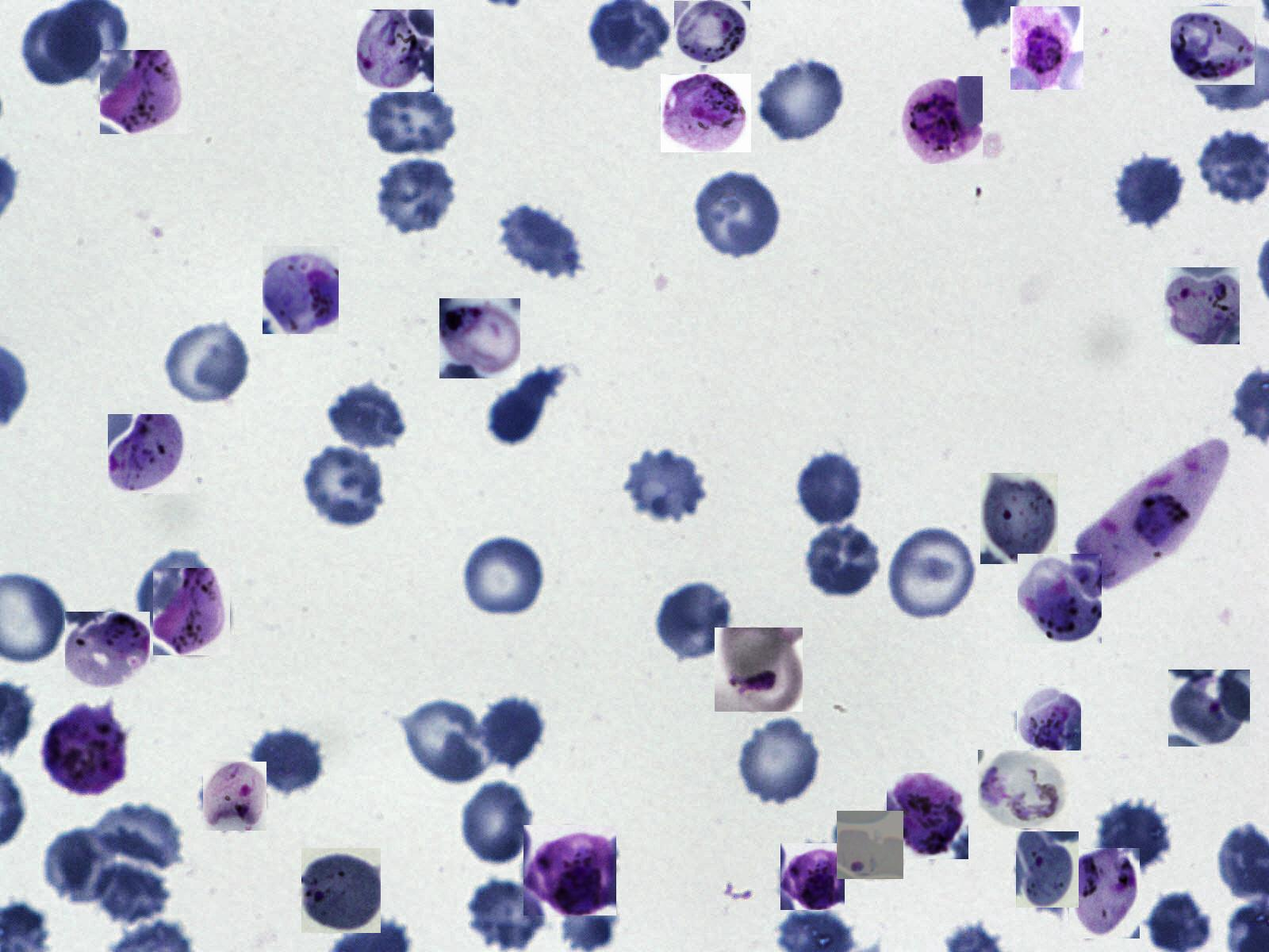Infected: (1075, 437, 1230, 590), (523, 825, 616, 916), (40, 699, 129, 794), (898, 76, 983, 164), (1018, 554, 1102, 643), (715, 628, 803, 712), (100, 50, 187, 134), (980, 473, 1058, 564), (978, 750, 1069, 828), (661, 74, 751, 152), (887, 773, 968, 859), (302, 848, 381, 933), (153, 568, 230, 655), (263, 246, 339, 334), (1171, 6, 1255, 85), (439, 298, 520, 378), (108, 414, 190, 493), (1069, 848, 1140, 939), (65, 612, 150, 688), (1168, 670, 1250, 747), (357, 10, 434, 92), (1010, 6, 1083, 90), (1164, 267, 1240, 344), (674, 1, 750, 65), (1016, 831, 1079, 908), (837, 811, 903, 879), (780, 843, 845, 910), (203, 762, 266, 831), (1017, 685, 1081, 750)
Uninfected: (888, 522, 979, 623), (692, 170, 784, 261), (162, 317, 255, 406), (757, 55, 849, 143), (359, 80, 463, 156), (301, 442, 392, 528), (736, 715, 822, 806), (403, 699, 494, 785), (621, 444, 711, 528), (461, 535, 548, 618), (654, 579, 737, 665), (494, 202, 581, 282), (461, 780, 537, 869), (373, 159, 458, 237), (94, 800, 188, 869), (799, 525, 879, 603), (21, 6, 102, 83), (486, 367, 566, 443), (466, 877, 547, 952), (328, 378, 407, 452), (794, 450, 867, 530), (140, 551, 213, 631), (475, 693, 546, 774), (44, 829, 119, 904), (1098, 799, 1175, 872), (252, 727, 325, 799), (1117, 153, 1187, 227), (90, 863, 174, 923)
